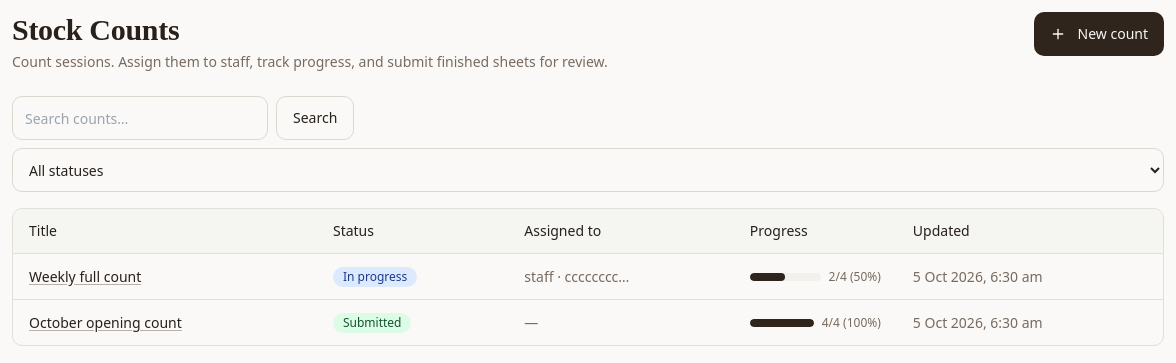
Scenario: StockCountsPage › filters by status
Step 1. Select "Submitted" in the dropdown named "Filter by status" → (588, 170), box [12,148,1164,192]
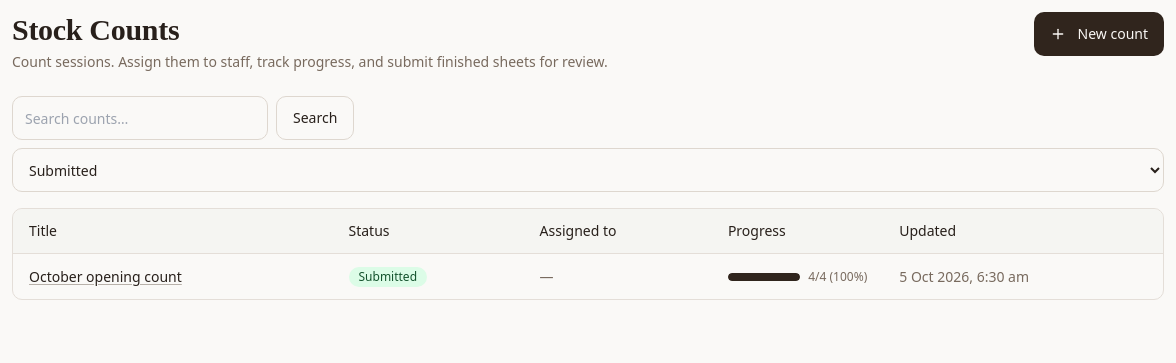
Expected: the link "October opening count" is shown, [29,266,182,286]
Now no links "Weekly full count" are shown
